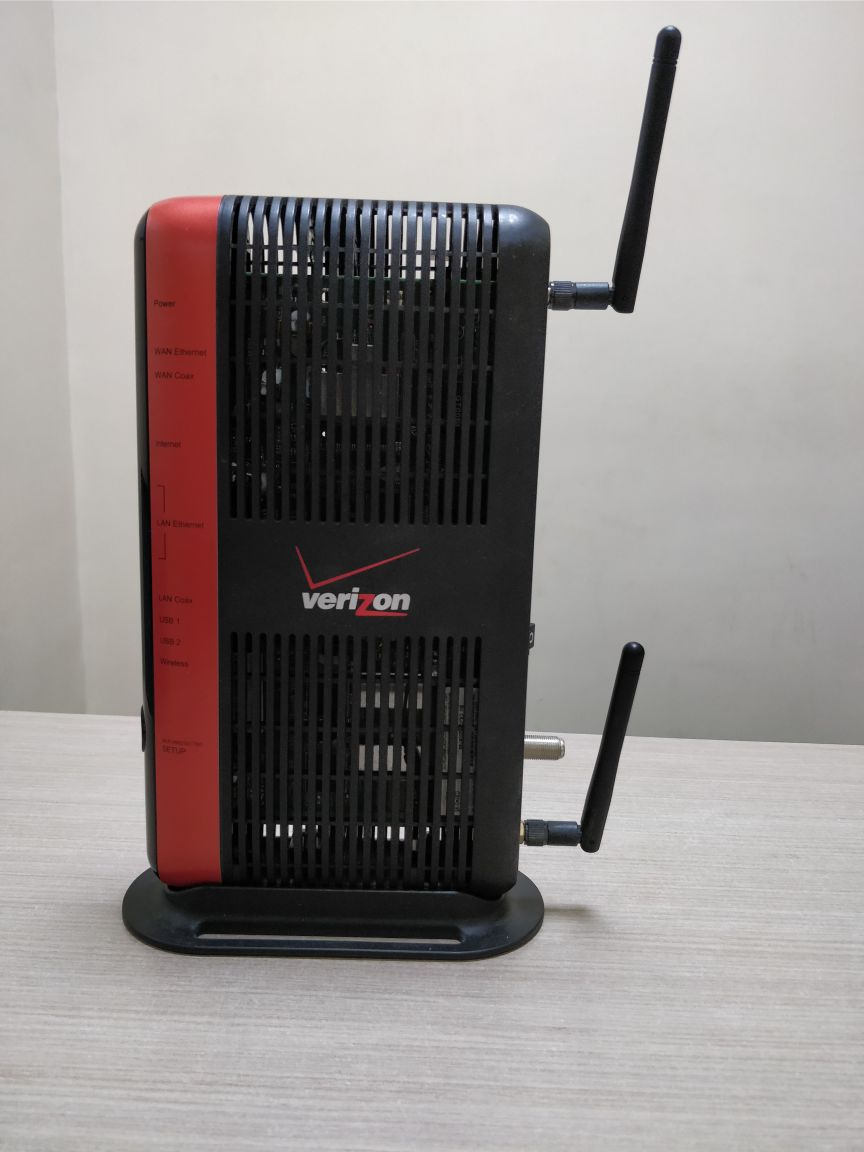Verizon Router: (56, 67, 711, 994)
